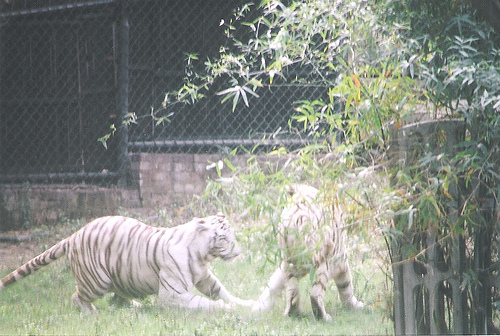Tigre: (44, 212, 236, 306)
